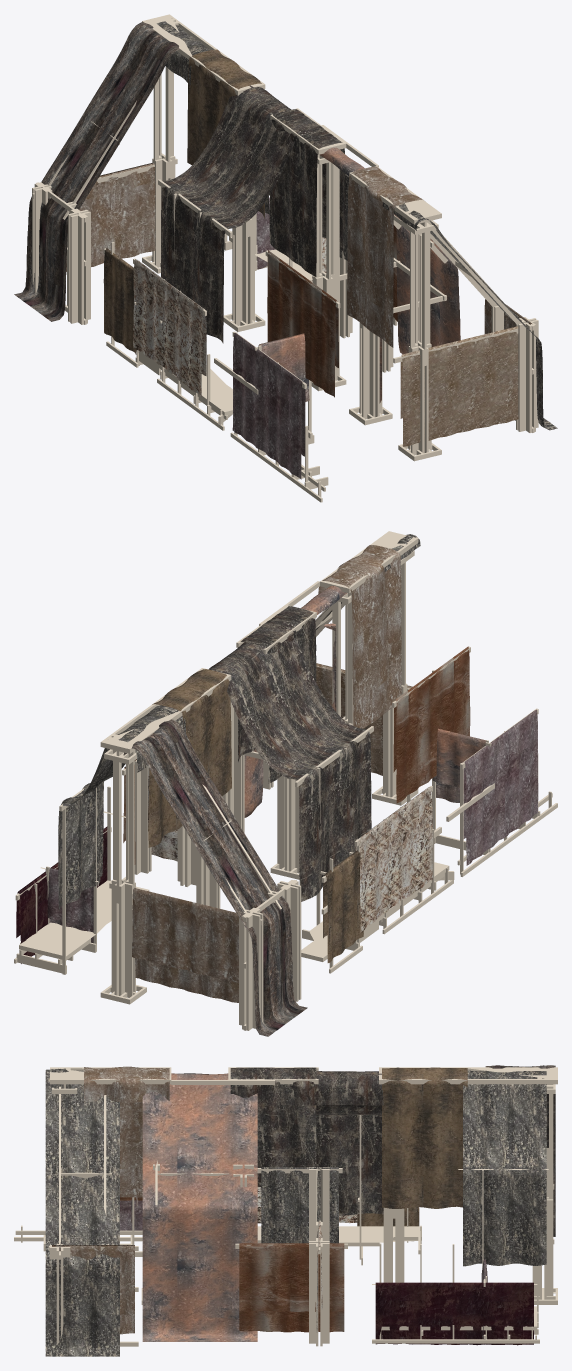
The model's file is nasser_rubaiya_web.glb.
The picture shows the model from 3 angles, top to bottom: view 1: azimuth 30°, elevation 25°; view 2: azimuth 150°, elevation 25°; view 3: azimuth 270°, elevation 25°; orthographic projection. The views are drawn at different scales.
Visible parts, largest first — view 1: wood, bark_brown, mud_khaki, grey_drape, tan_khaki, maroon_ash, olive_brown, white_ash, clay_white, rust_black, dark_ash; view 2: wood, bark_brown, mud_khaki, grey_drape, olive_brown, maroon_ash, white_ash, clay_white, dark_ash, rust_black, maroon_velvet, tan_khaki; view 3: dark_ash, rust_black, wood, bark_brown, olive_brown, maroon_velvet, clay_white, mud_khaki, maroon_ash, grey_drape, white_ash.
Boxes of the visible parts, bbox=[...] form: wood: bbox=[32, 14, 538, 502]; bark_brown: bbox=[161, 85, 345, 343]; mud_khaki: bbox=[66, 162, 531, 347]; grey_drape: bbox=[14, 22, 180, 321]; tan_khaki: bbox=[400, 326, 518, 446]; maroon_ash: bbox=[232, 197, 305, 479]; olive_brown: bbox=[104, 49, 264, 354]; white_ash: bbox=[133, 237, 326, 396]; clay_white: bbox=[267, 225, 397, 397]; rust_black: bbox=[258, 147, 460, 403]; dark_ash: bbox=[156, 21, 557, 430]; wood: bbox=[14, 531, 557, 1030]; bark_brown: bbox=[208, 606, 371, 901]; mud_khaki: bbox=[132, 545, 401, 1002]; grey_drape: bbox=[123, 719, 307, 1036]; olive_brown: bbox=[148, 669, 363, 962]; maroon_ash: bbox=[45, 709, 538, 943]; white_ash: bbox=[148, 766, 432, 932]; clay_white: bbox=[123, 646, 470, 864]; dark_ash: bbox=[58, 534, 420, 910]; rust_black: bbox=[244, 586, 486, 817]; maroon_velvet: bbox=[16, 826, 107, 963]; tan_khaki: bbox=[316, 663, 412, 775]; dark_ash: bbox=[45, 1069, 546, 1356]; rust_black: bbox=[131, 1073, 257, 1341]; wood: bbox=[14, 1067, 557, 1346]; bark_brown: bbox=[230, 1067, 383, 1215]; olive_brown: bbox=[357, 1067, 467, 1226]; maroon_velvet: bbox=[375, 1282, 533, 1345]; clay_white: bbox=[120, 1197, 344, 1332]; mud_khaki: bbox=[52, 1066, 169, 1334]; maroon_ash: bbox=[120, 1200, 487, 1339]; grey_drape: bbox=[485, 1065, 555, 1236]; white_ash: bbox=[257, 1187, 357, 1332].
Size of the model in its own units: 6.47 by 5.54 by 12.06.
Materials: 12 (11 with a texture image).
